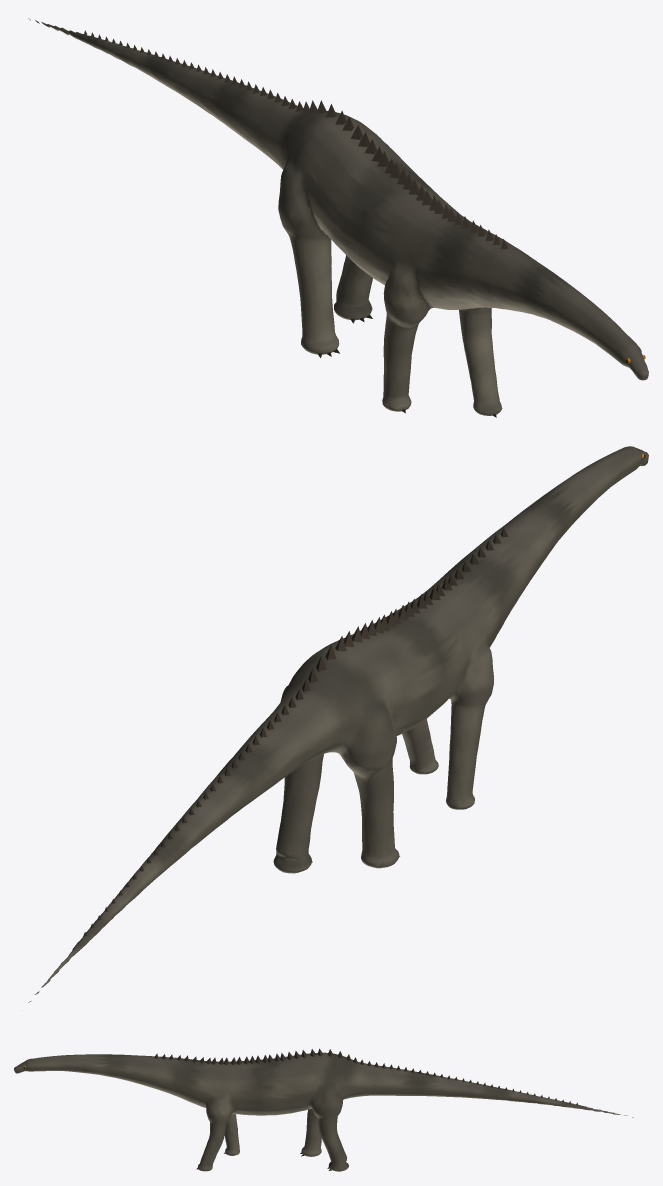
Rendered from Diplodocus.fbx.
The picture shows the model from 3 angles, top to bottom: view 1: azimuth 30°, elevation 25°; view 2: azimuth 150°, elevation 25°; view 3: azimuth 270°, elevation 25°; orthographic projection. The views are drawn at different scales.
Parts seen in each view (by area): view 1: Diplodocus; view 2: Diplodocus; view 3: Diplodocus.
Part boxes in pixels (x1,y1,x2,y2): Diplodocus: (28, 18, 648, 417); Diplodocus: (28, 446, 648, 1002); Diplodocus: (14, 1048, 633, 1171).
Bounding box in the file's own units: 0.7401 × 1.48 × 7.44.
